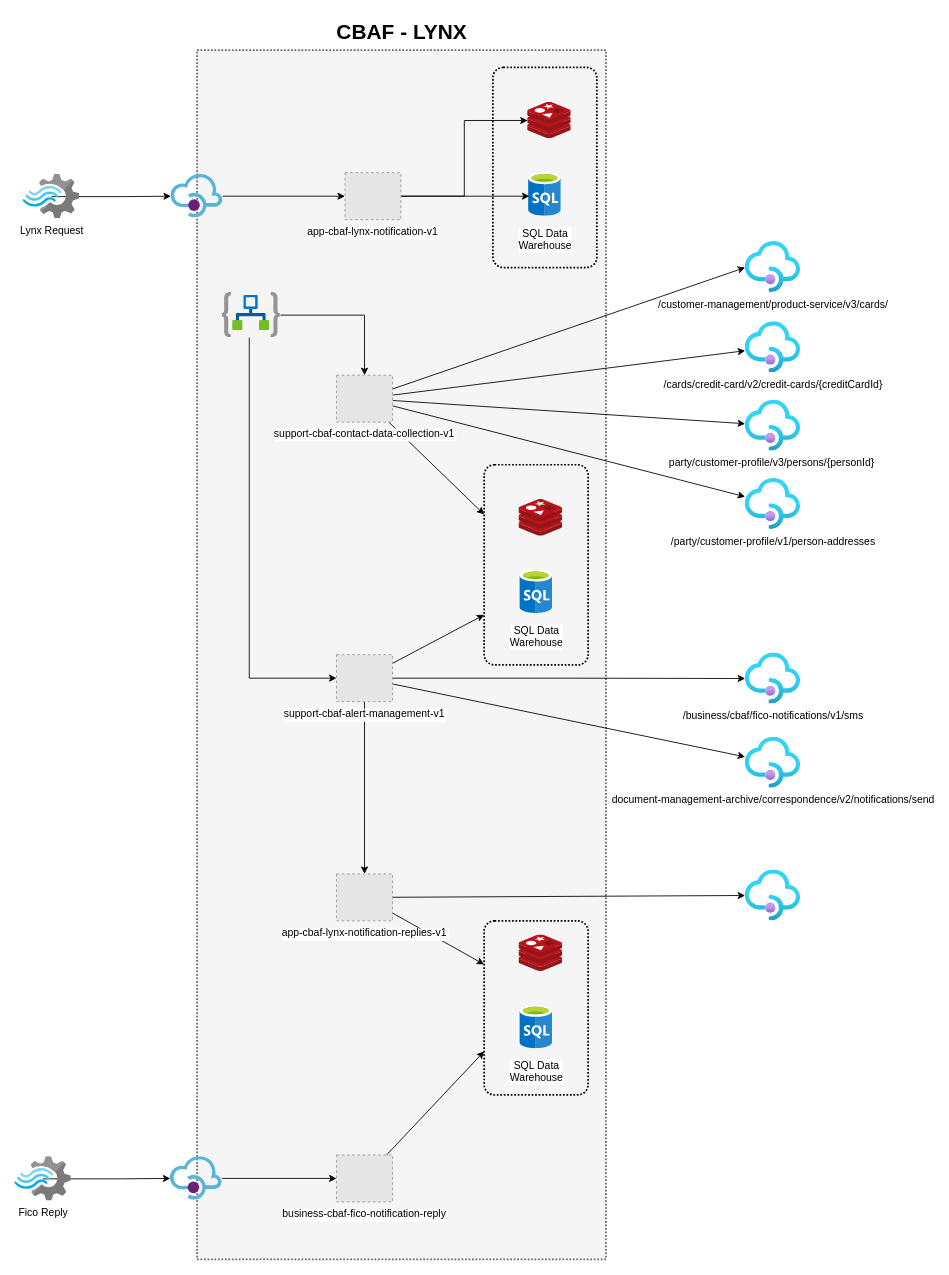
Image size: 949x1275. Some labels were removed from this diagram. Grey dashed boxes stand in for pictures. Here are the shapes that lost their labels. From the top down, the centre of each, then its label:
At point (251, 314): "logicapps".
At point (772, 894): "account-management/fraud-case/v1/fraud-alert".
